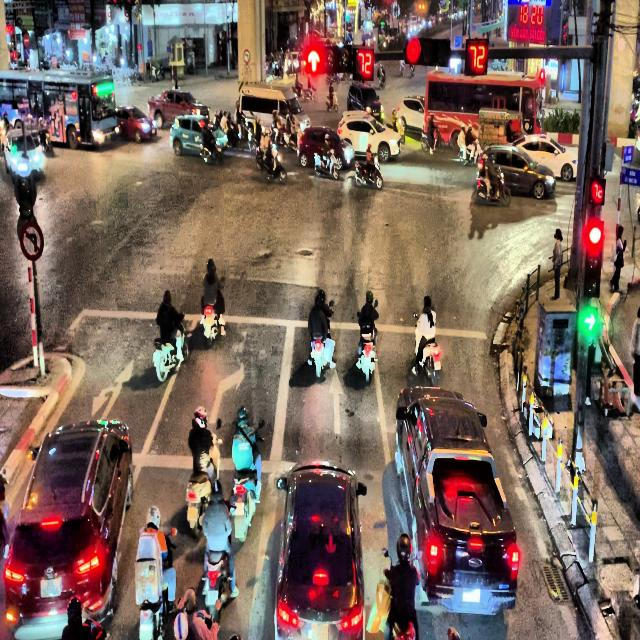BUS: (422, 68, 545, 151), (0, 69, 119, 150)
CAR: (3, 418, 134, 639), (274, 460, 367, 640), (477, 144, 556, 200), (337, 110, 404, 163), (514, 134, 578, 182), (169, 113, 228, 160), (297, 126, 355, 170), (148, 90, 210, 128), (4, 129, 44, 183), (115, 105, 157, 143), (347, 82, 384, 123), (392, 96, 425, 136)
MOTORBIKE: (195, 498, 236, 620), (135, 528, 177, 640), (228, 419, 264, 542), (186, 433, 222, 533), (153, 318, 187, 382), (307, 300, 335, 377), (413, 312, 441, 387), (356, 311, 378, 382), (200, 284, 225, 346), (476, 164, 511, 208), (14, 155, 37, 219), (255, 147, 287, 184), (353, 155, 383, 189), (313, 149, 340, 180), (200, 138, 224, 165), (421, 128, 445, 153), (458, 139, 480, 166), (38, 130, 53, 156), (326, 90, 338, 112), (377, 63, 386, 89)
